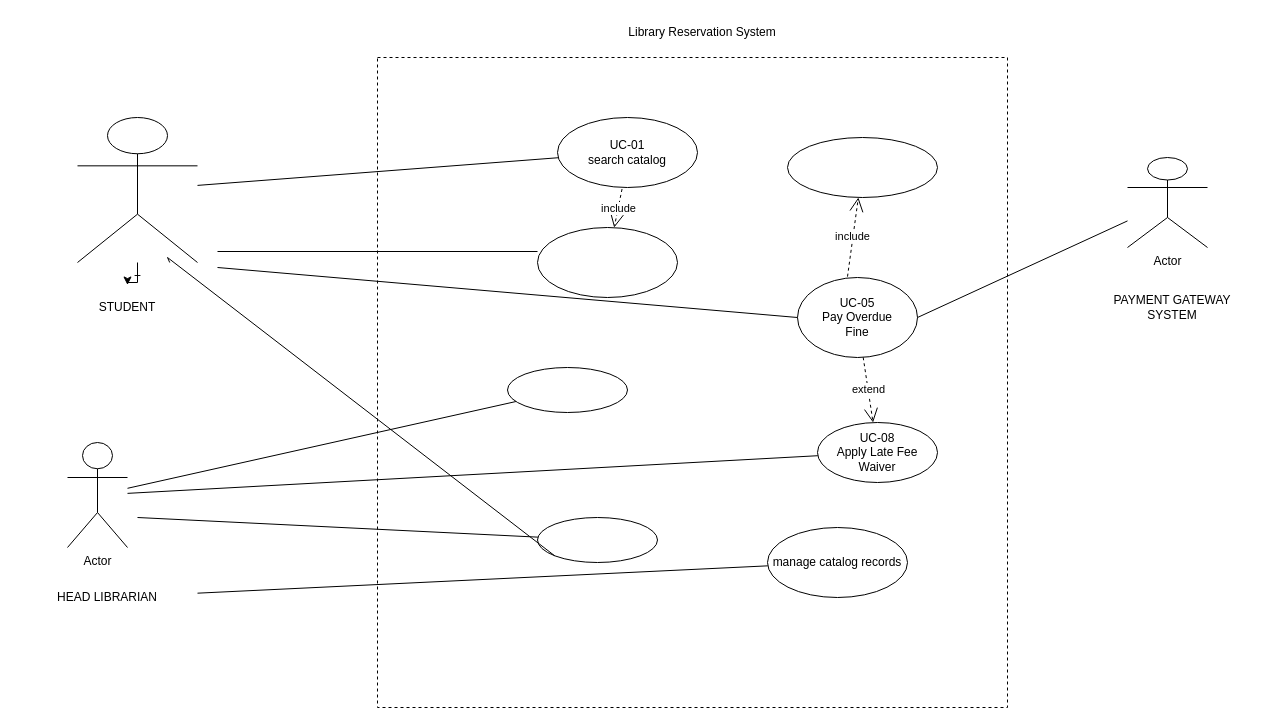
This 1274x725 diagram has some shape labels left out. The shapes that lost their labels are listed below. From the top down, each one's box as (x1, y1, x2, y2) in pixels, then its label:
(786, 136, 938, 198): UC-07 Send Payment Confirmation
(536, 226, 678, 298): UC-02 Place Hold Request
(506, 366, 628, 412): UC-03 Manage Waitlist Queue
(536, 516, 658, 562): UC-04 Renew Loan
